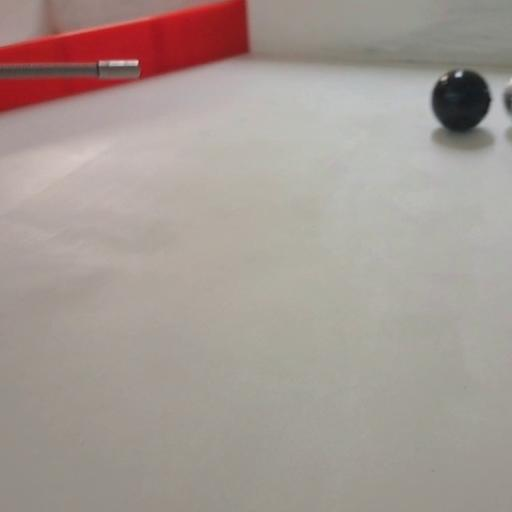dead: (429, 68, 493, 132)
